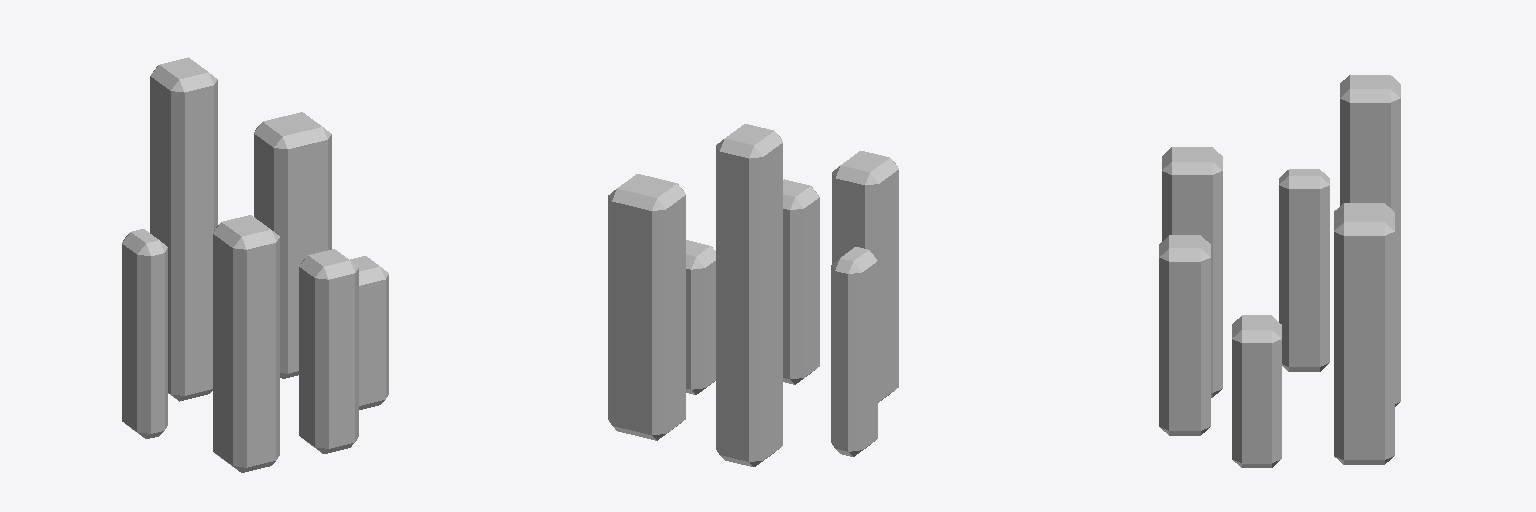
Rendered from Grass_Big.obj.
3 renders of one model, left to right at view 1: azimuth 30°, elevation 25°; view 2: azimuth 150°, elevation 25°; view 3: azimuth 270°, elevation 25°, orthographic.
Visible parts, largest first — view 1: Grass_Big_Cube.086; view 2: Grass_Big_Cube.086; view 3: Grass_Big_Cube.086.
Part boxes in pixels (bbox=[...]): Grass_Big_Cube.086: bbox=[122, 57, 388, 472]; Grass_Big_Cube.086: bbox=[608, 124, 898, 466]; Grass_Big_Cube.086: bbox=[1159, 75, 1400, 467].
Size of the model in its own units: 0.776 by 1.04 by 0.7102.